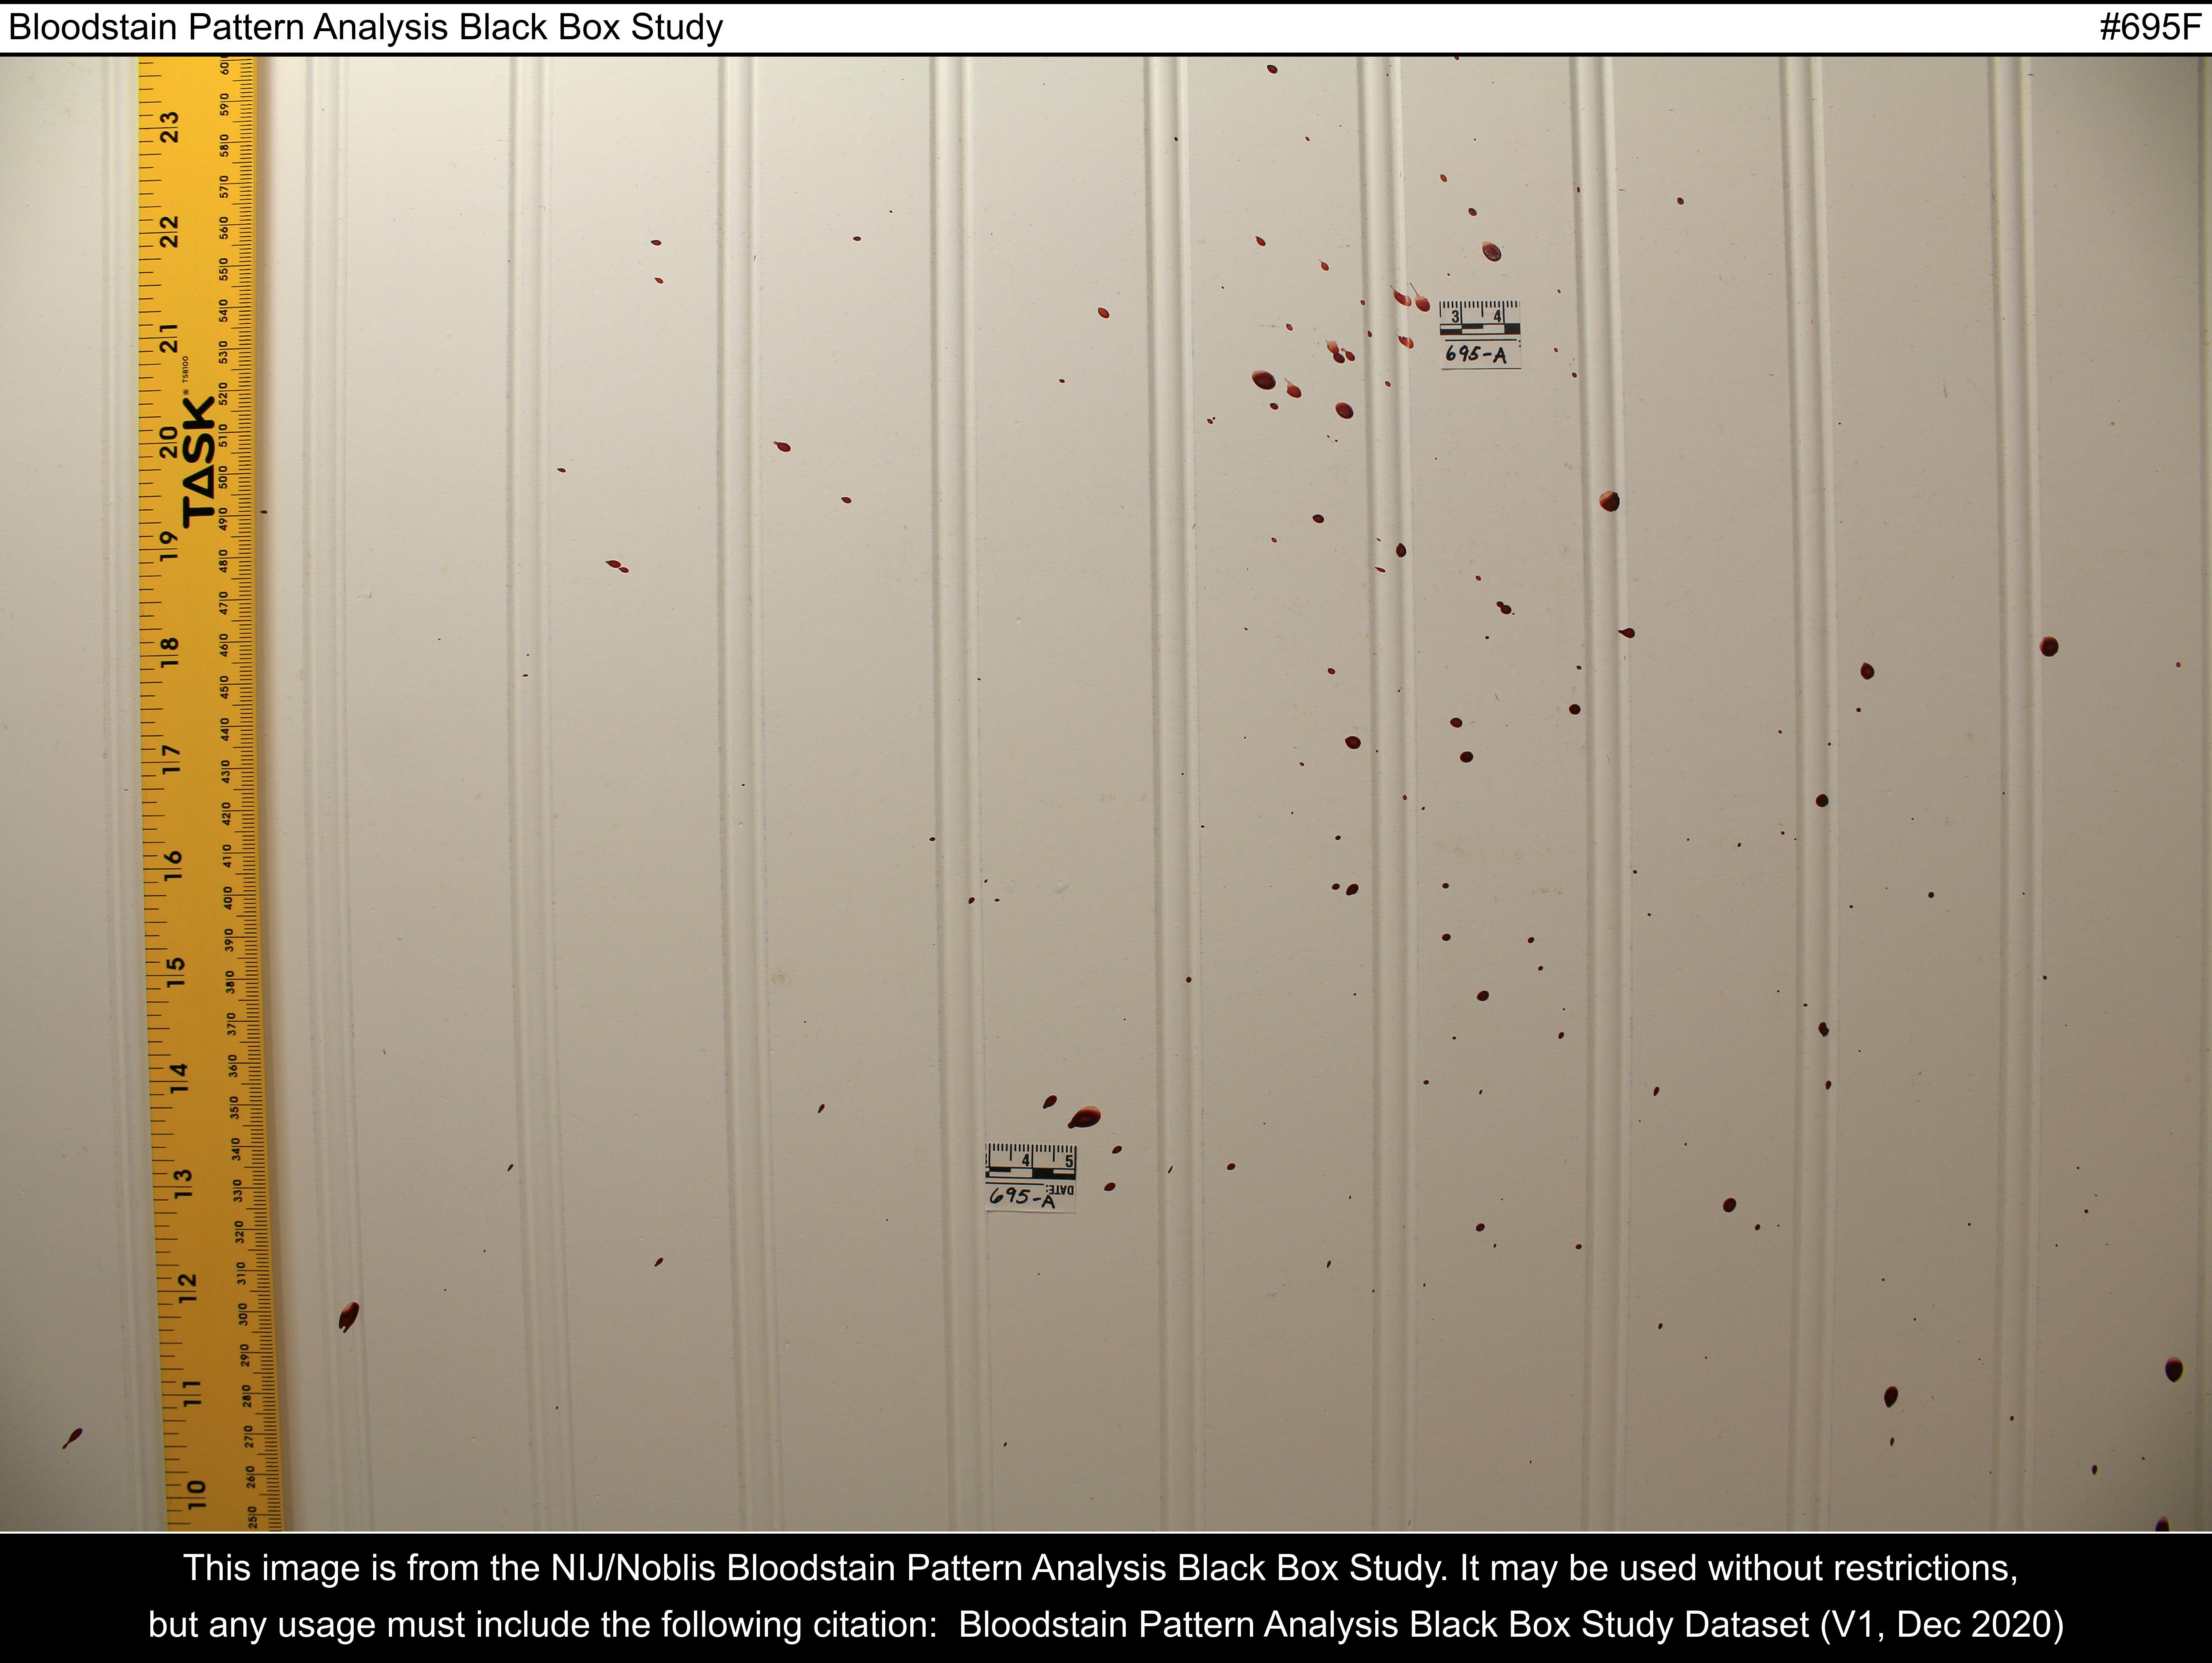Impact: (688, 190, 2078, 1452)
